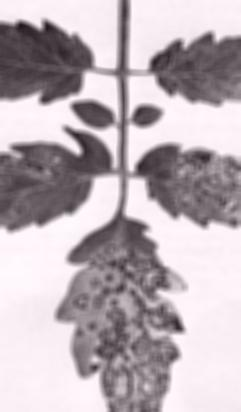Tomato Septoria leaf spot: (57, 217, 190, 412), (0, 129, 113, 245), (0, 8, 98, 108), (131, 144, 241, 229), (152, 12, 241, 113)
